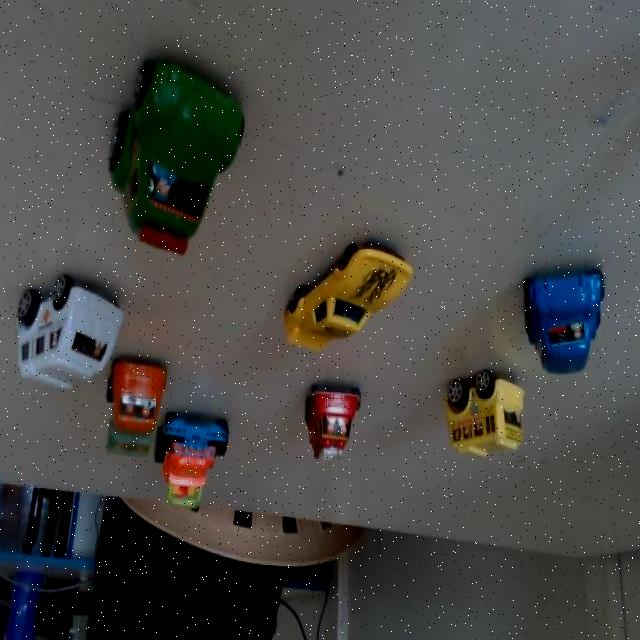car: (94, 72, 242, 249), (8, 256, 132, 408), (277, 235, 414, 361), (522, 264, 606, 375), (436, 361, 522, 460), (159, 416, 238, 517), (290, 369, 362, 470), (104, 356, 168, 466)
